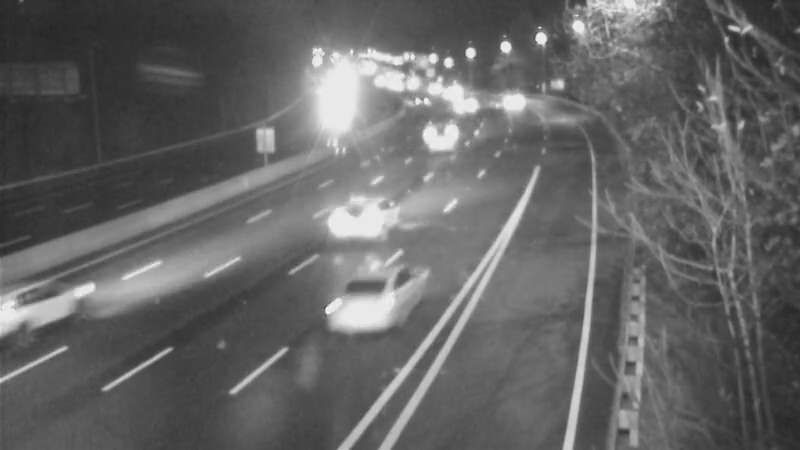vehicle: (312, 246, 422, 356), (315, 183, 395, 263), (1, 259, 79, 339), (424, 69, 474, 119), (397, 75, 447, 125), (480, 78, 530, 128), (439, 79, 489, 129), (411, 106, 461, 156)
